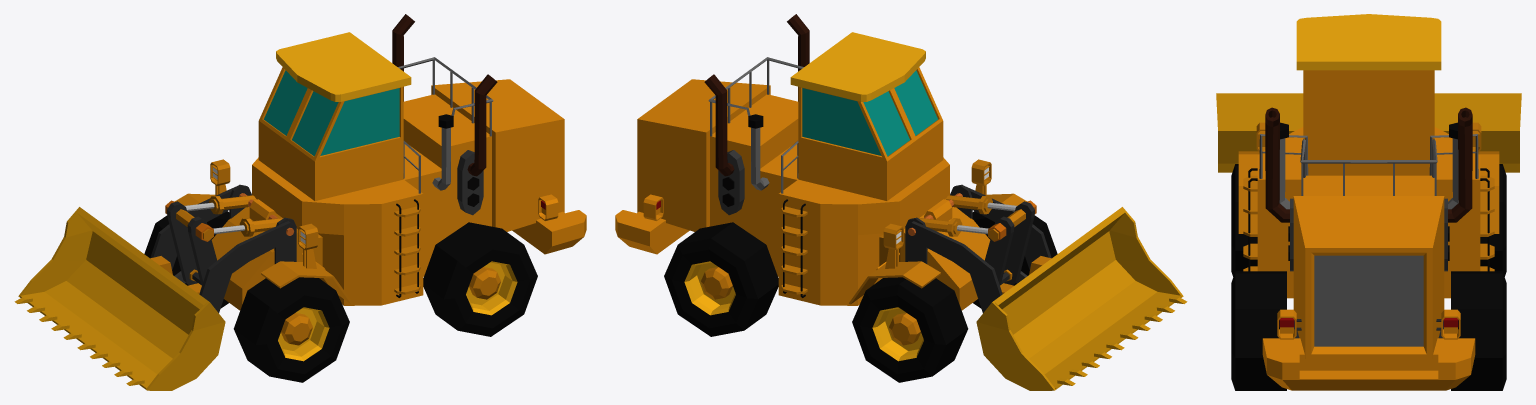
The model's file is truck.glb.
3 views of the same model, side by side, from view 1: azimuth 30°, elevation 25°; view 2: azimuth 150°, elevation 25°; view 3: azimuth 270°, elevation 25° (orthographic). The views are drawn at different scales.
Visible parts, largest first — view 1: Loader; view 2: Loader; view 3: Loader.
Boxes of the visible parts, bbox=[...] form: Loader: bbox=[14, 14, 586, 390]; Loader: bbox=[615, 14, 1187, 390]; Loader: bbox=[1216, 14, 1521, 390].
Bounding box in the file's own units: 1.54 × 0.7796 × 0.7275.
1 material, 1 textured.
